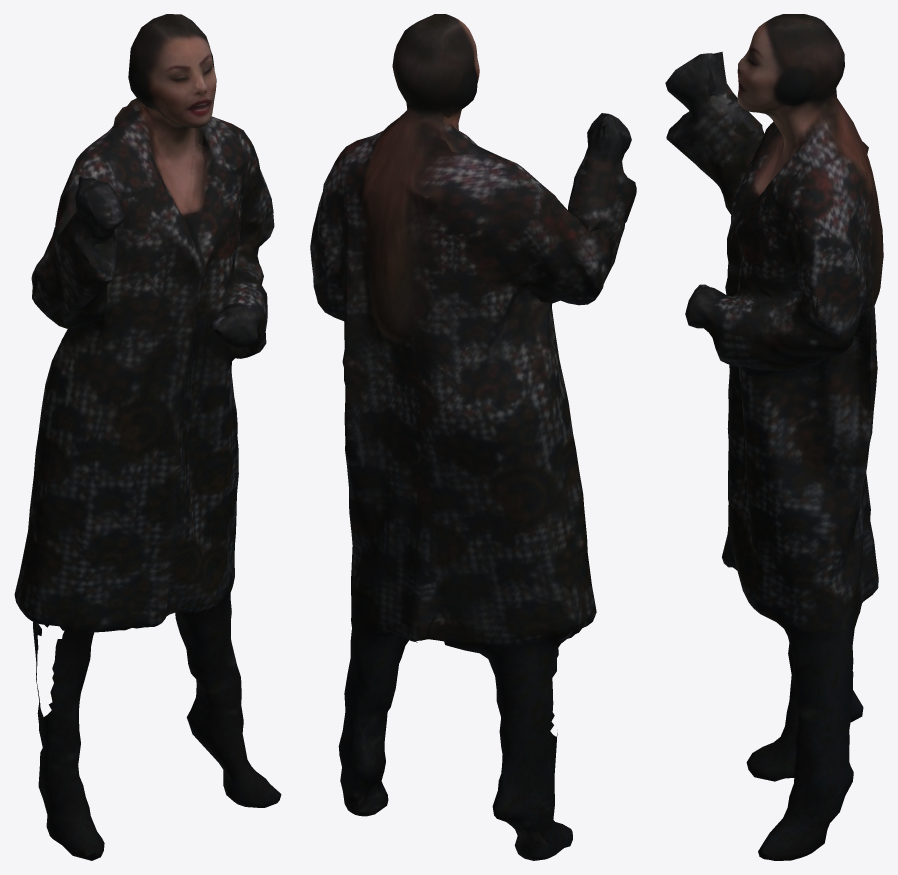
The model's file is evercoast.0144.gltf.
The picture shows the model from 3 angles, left to right: view 1: azimuth 30°, elevation 25°; view 2: azimuth 150°, elevation 25°; view 3: azimuth 270°, elevation 25°; orthographic projection.
Visible parts, largest first — view 1: HIGH; view 2: HIGH; view 3: HIGH.
Part boxes in pixels (x1,y1,x2,y2): HIGH: (14,14,281,860); HIGH: (310,14,636,860); HIGH: (665,14,883,860).
Bounding box in the file's own units: 0.6291 × 1.82 × 0.4467.
1 material, 1 textured.
